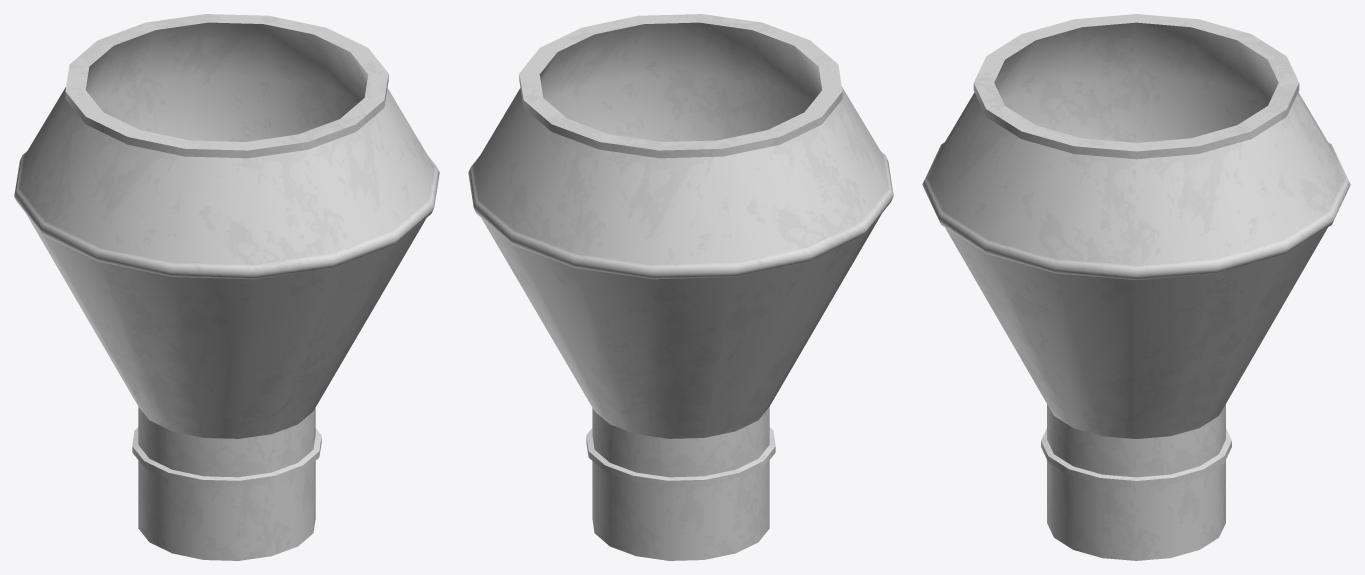
The model's file is Steam Train Body_B_001.fbx.
3 renders of one model, left to right at view 1: azimuth 30°, elevation 25°; view 2: azimuth 150°, elevation 25°; view 3: azimuth 270°, elevation 25°, orthographic.
Parts seen in each view (by area): view 1: Steam_Train_Body_B_001; view 2: Steam_Train_Body_B_001; view 3: Steam_Train_Body_B_001.
Boxes of the visible parts, x1=… form: Steam_Train_Body_B_001: x1=14, y1=14, x2=439, y2=560; Steam_Train_Body_B_001: x1=468, y1=14, x2=893, y2=560; Steam_Train_Body_B_001: x1=922, y1=14, x2=1350, y2=560.
Bounding box in the file's own units: 111 × 126 × 111.
Materials: 2 (2 with a texture image).
